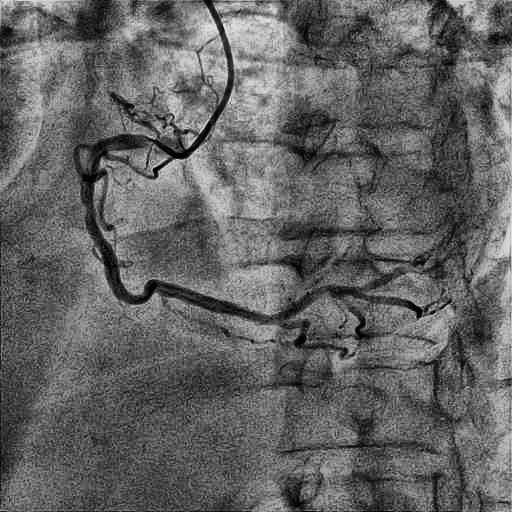pborca: (276, 265, 411, 320)
pda: (276, 319, 348, 358)
rca: (81, 134, 273, 324)
